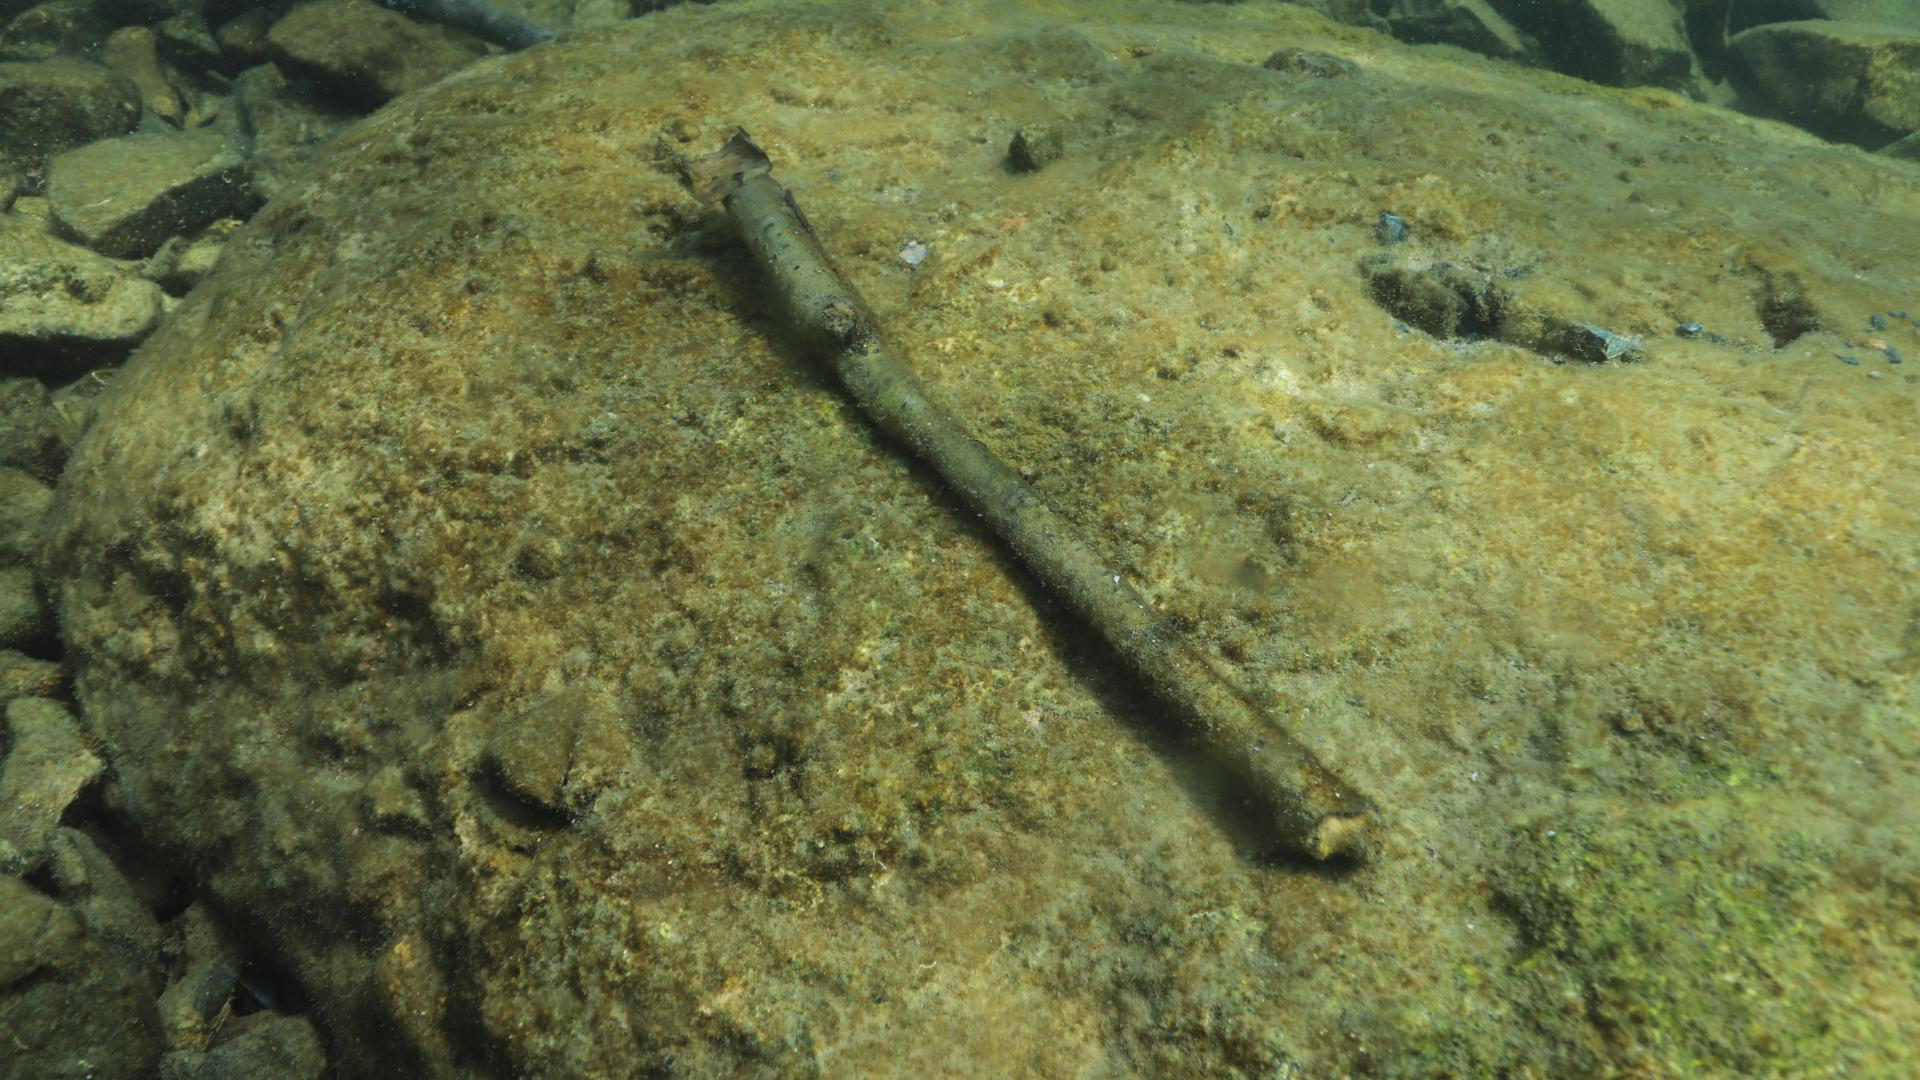wood: (717, 169, 1385, 866)
